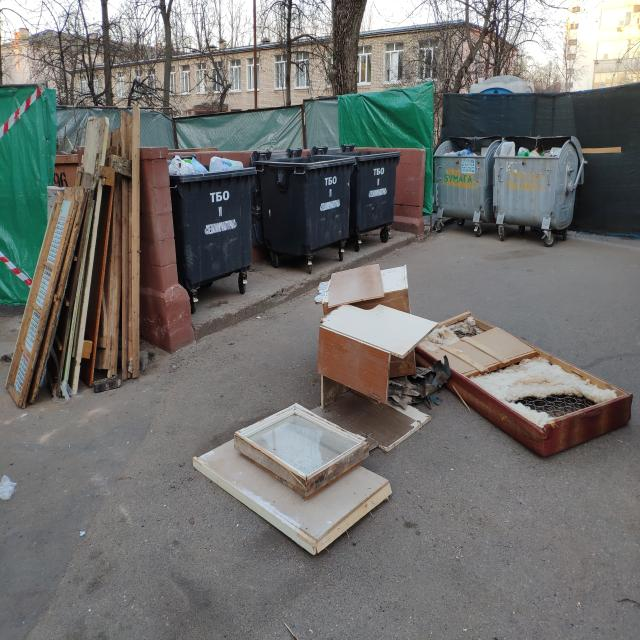entulho: (415, 307, 635, 456), (26, 162, 146, 396), (199, 424, 390, 558), (463, 353, 636, 461), (313, 299, 442, 399), (101, 107, 148, 377), (233, 403, 369, 486), (317, 265, 411, 314), (77, 115, 109, 189)
lixo domiciliar: (168, 155, 196, 175), (209, 156, 239, 173), (183, 154, 207, 172), (533, 145, 561, 158), (474, 147, 489, 157), (452, 149, 472, 156), (517, 147, 531, 157)
